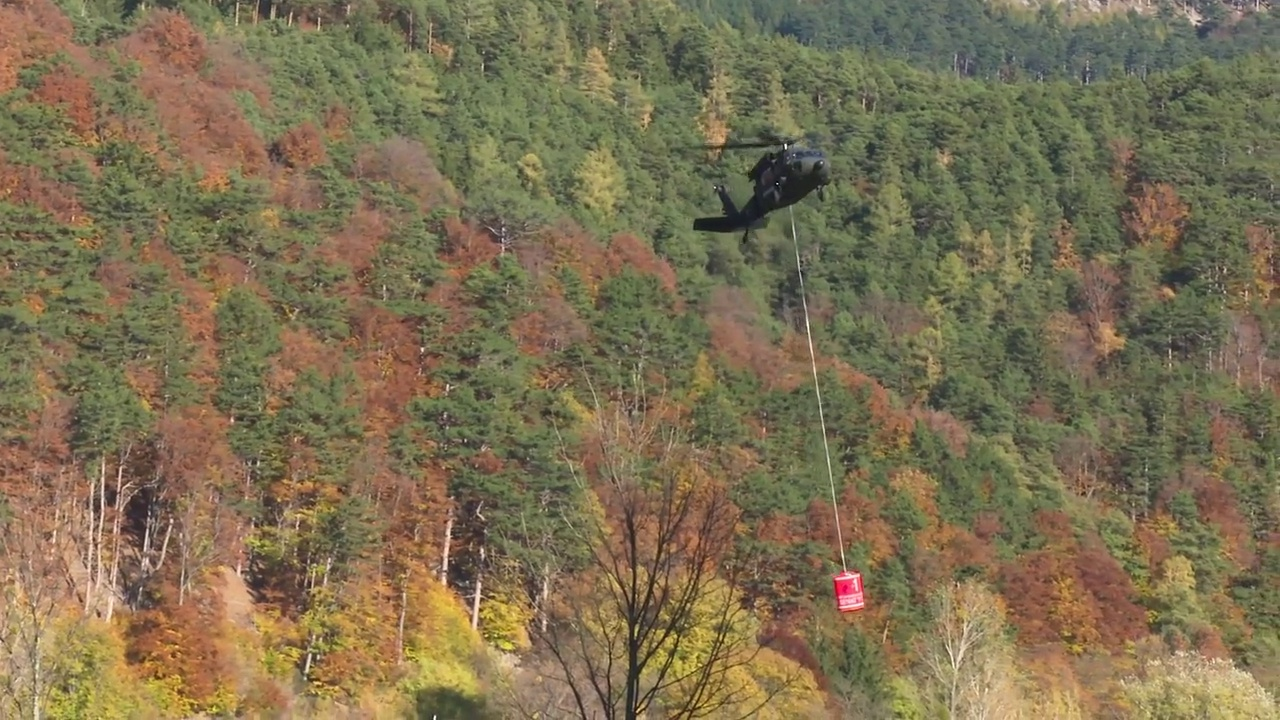heli: (692, 135, 831, 243)
